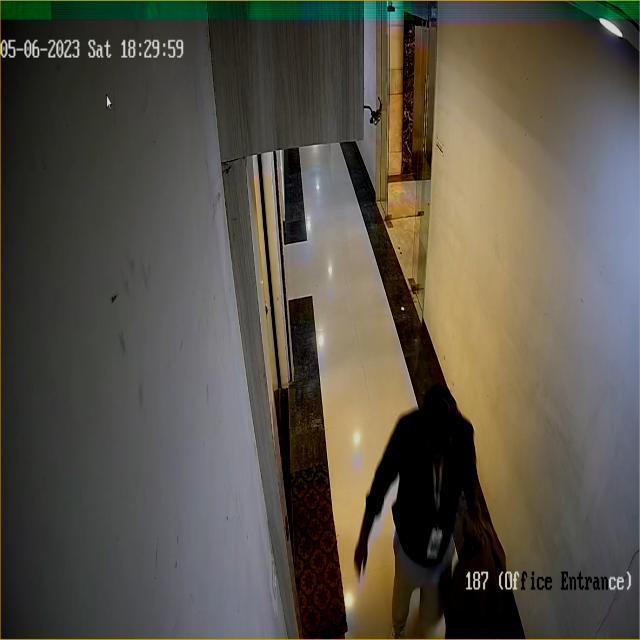gunny_bag: (444, 518, 507, 634)
